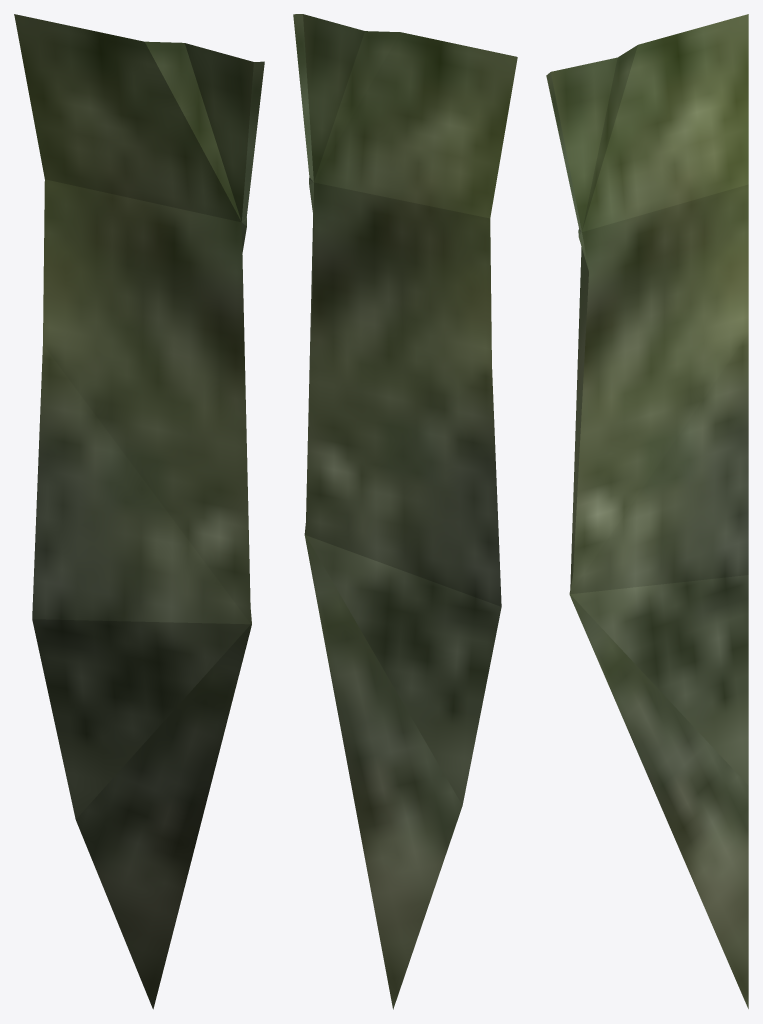
3 renders of one model, left to right at view 1: azimuth 30°, elevation 25°; view 2: azimuth 210°, elevation 25°; view 3: azimuth 270°, elevation 25°, orthographic. The views are drawn at different scales.
Size of the model in its own units: 0.4194 by 2.97 by 0.5825.
1 material, 1 textured.
